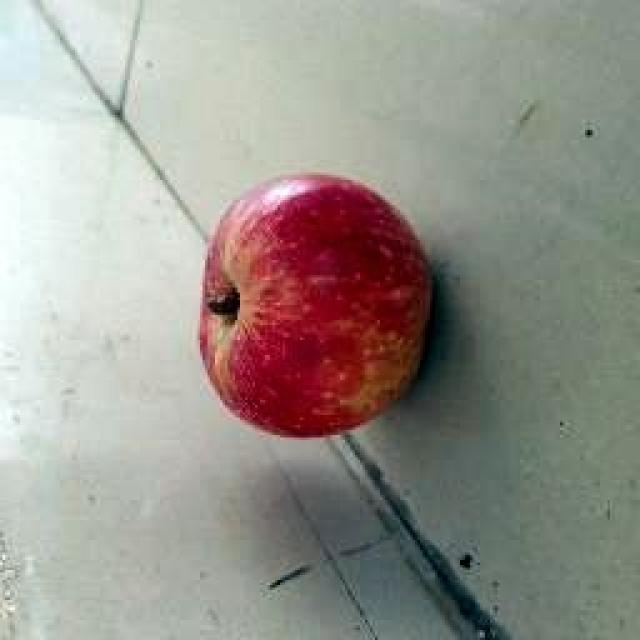Good_Apple: (198, 172, 435, 440)
